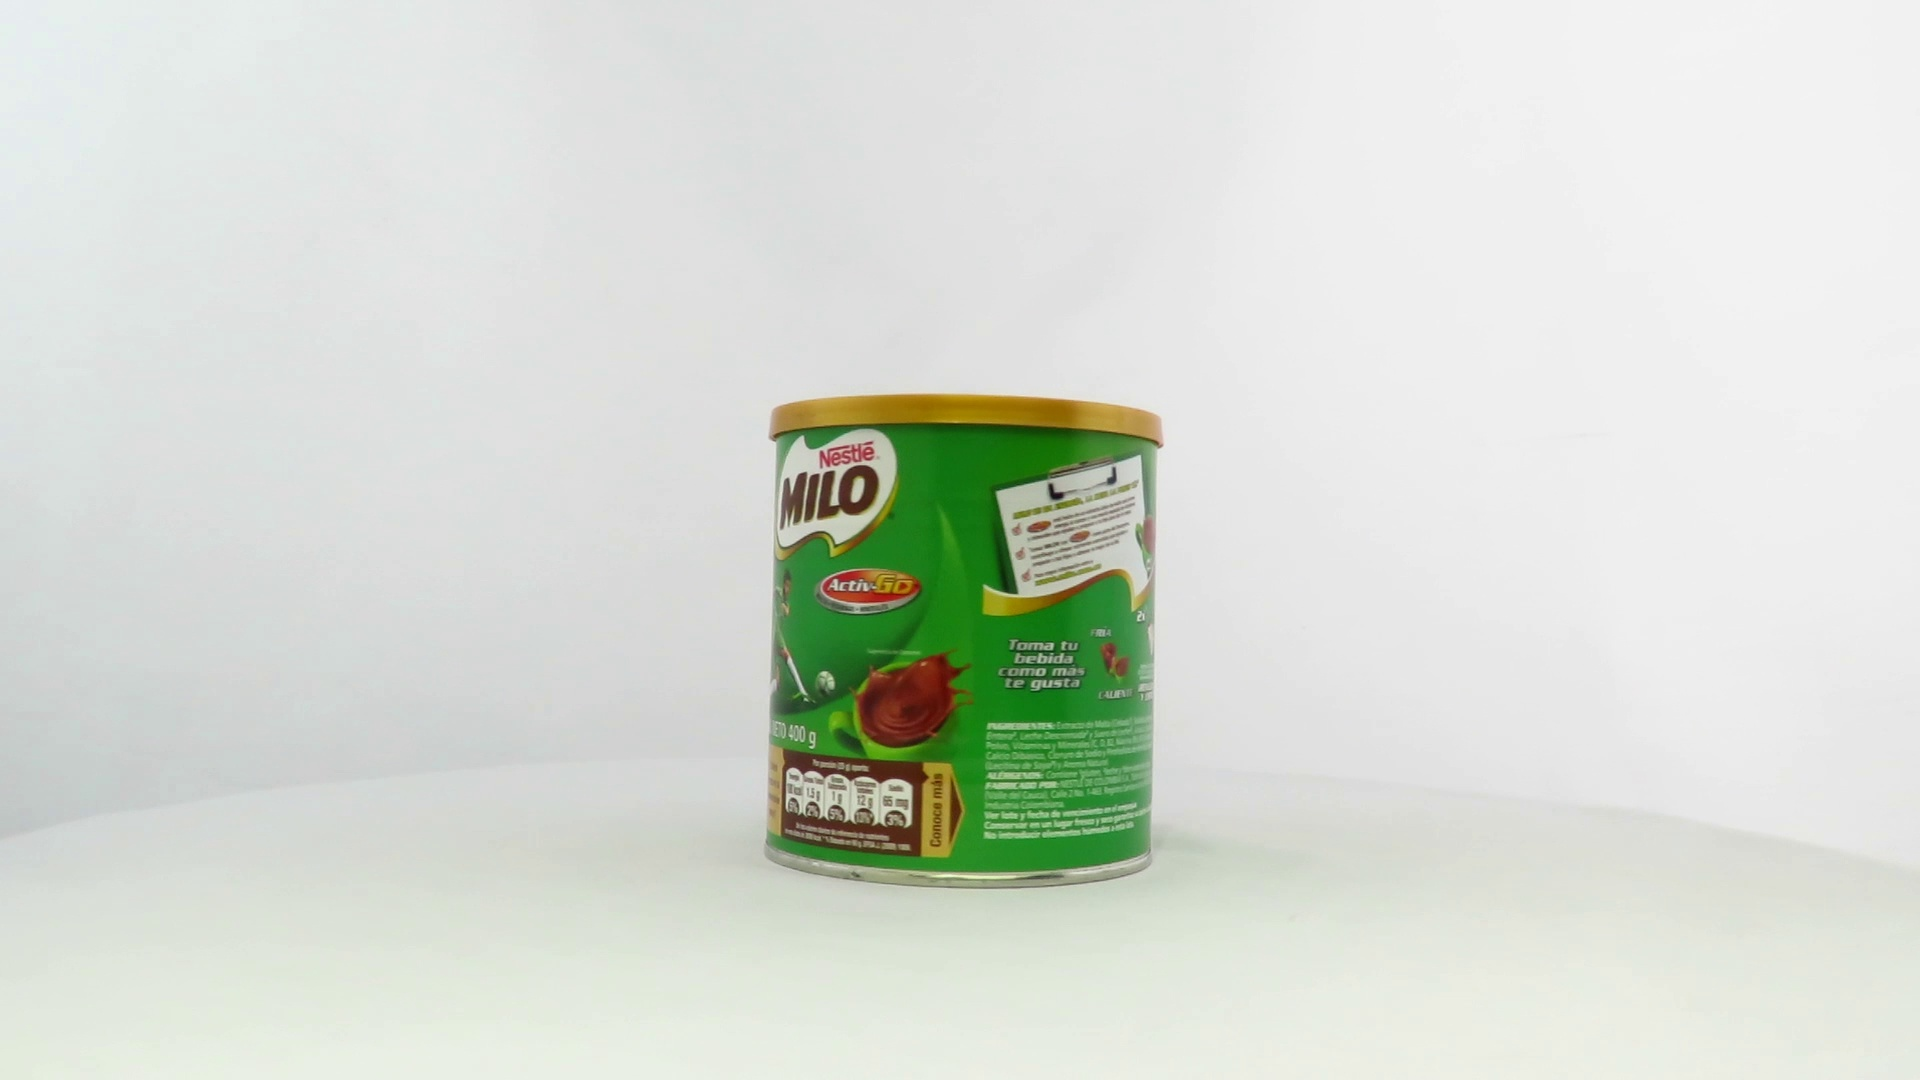COL0170203LAT40000: (758, 388, 1170, 895)
